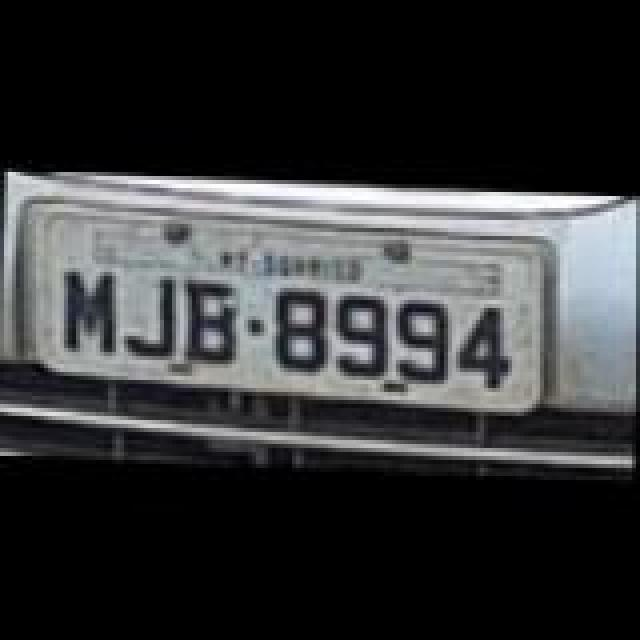4: (458, 298, 514, 382)
8: (272, 284, 332, 368)
9: (390, 290, 454, 378), (332, 290, 392, 374)
B: (180, 276, 240, 360)
J: (126, 268, 182, 352)
M: (62, 266, 118, 350)
